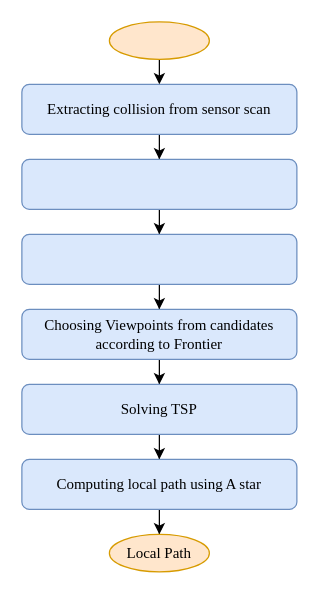
The diagram is 319 pixels wide and 594 high, and some of its shapes have lost their labels. The shapes that lost their labels are listed below. From the top down, each one's centre as x and y in pixels, then its label:
At [158,40]: "Sensor Scan".
At [159,183]: "Filling free and occupied space and Extracting Frontier".
At [159,258]: "Sampling and getting candidate Viewpoints".
